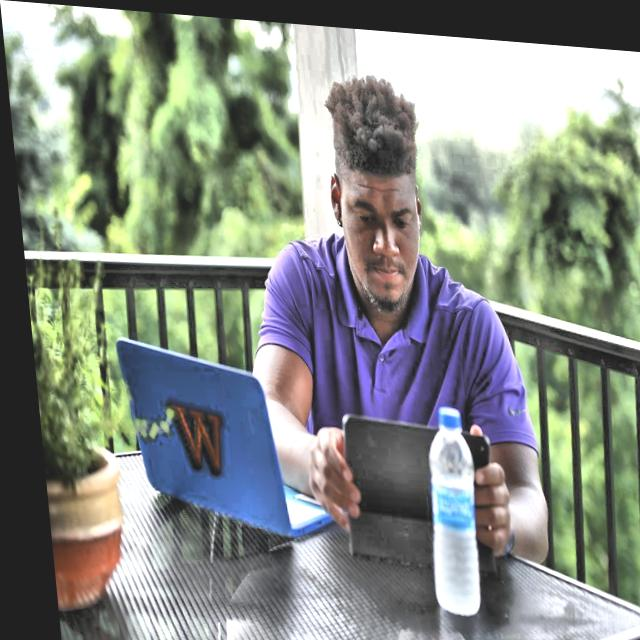Bottles: (410, 394, 480, 622)
